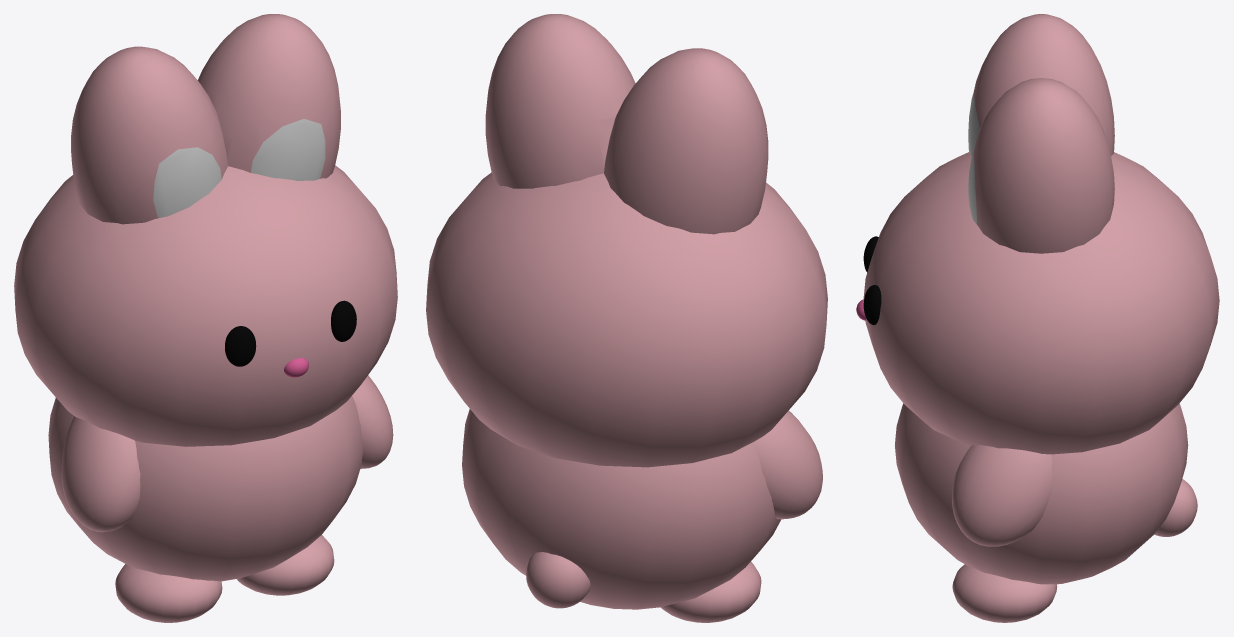
Rendered from glb-rabbit.glb.
The picture shows the model from 3 angles, left to right: view 1: azimuth 30°, elevation 25°; view 2: azimuth 150°, elevation 25°; view 3: azimuth 270°, elevation 25°; orthographic projection. The views are drawn at different scales.
Visible parts, largest first — view 1: pSphere1.1, pSphere8.7, pSphere2.2, pSphere9.8, pSphere5.4, pSphere4.3, pSphere7.6, pSphere13.11, pSphere11.9; view 2: pSphere1.1, pSphere8.7, pSphere2.2, pSphere9.8, pSphere5.4, pSphere6.5; view 3: pSphere1.1, pSphere8.7, pSphere2.2, pSphere7.6, pSphere4.3, pSphere6.5, pSphere11.9.
Part boxes in pixels (box(x1,y1,x2,y2)): pSphere1.1: box(14, 165, 397, 446); pSphere8.7: box(71, 14, 340, 224); pSphere2.2: box(48, 396, 362, 581); pSphere9.8: box(61, 416, 140, 532); pSphere5.4: box(115, 564, 222, 622); pSphere4.3: box(237, 535, 334, 595); pSphere7.6: box(352, 375, 393, 468); pSphere13.11: box(225, 326, 256, 366); pSphere11.9: box(331, 300, 356, 341); pSphere1.1: box(426, 172, 827, 467); pSphere8.7: box(485, 14, 768, 234); pSphere2.2: box(462, 409, 781, 609); pSphere9.8: box(753, 410, 822, 519); pSphere5.4: box(660, 562, 761, 622); pSphere6.5: box(526, 552, 590, 608); pSphere1.1: box(863, 152, 1219, 454); pSphere8.7: box(968, 14, 1114, 253); pSphere2.2: box(895, 403, 1188, 584); pSphere7.6: box(952, 445, 1052, 546); pSphere4.3: box(952, 564, 1057, 622); pSphere6.5: box(1154, 479, 1197, 536); pSphere11.9: box(863, 285, 881, 324).
Bounding box in the file's own units: 3.66 × 5.67 × 3.47.
